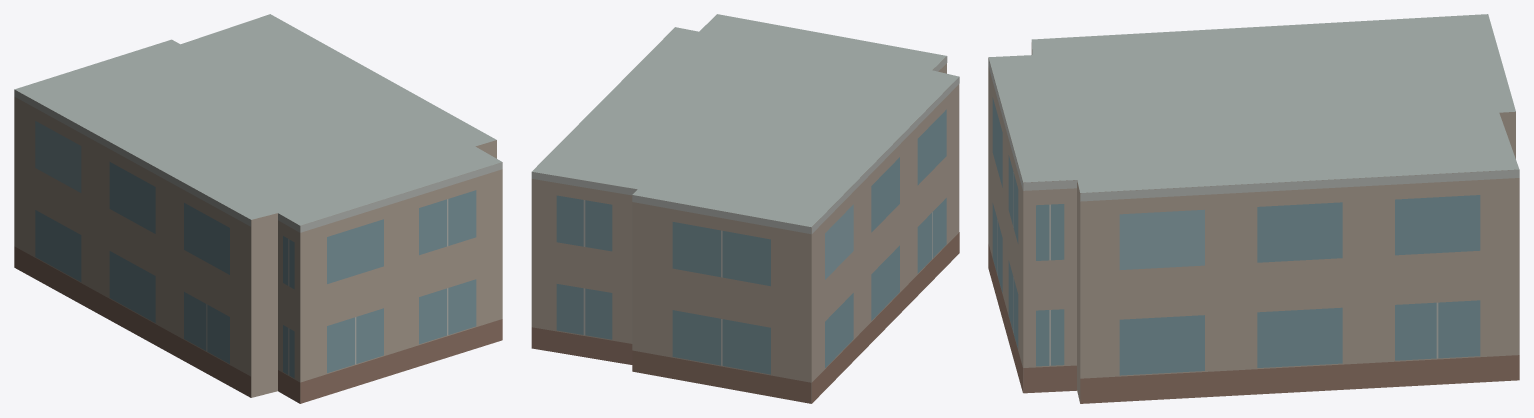
Rendered from survey-upis-32863250.glb.
3 renders of one model, left to right at view 1: azimuth 30°, elevation 25°; view 2: azimuth 150°, elevation 25°; view 3: azimuth 270°, elevation 25°, orthographic. The views are drawn at different scales.
Visible parts, largest first — view 1: survey-upis-32863250.tmp; view 2: survey-upis-32863250.tmp; view 3: survey-upis-32863250.tmp.
Part boxes in pixels (x1,y1,x2,y2): survey-upis-32863250.tmp: [14, 14, 502, 403]; survey-upis-32863250.tmp: [531, 14, 959, 403]; survey-upis-32863250.tmp: [988, 14, 1519, 403].
Size of the model in its own units: 11.13 by 6.1 by 13.94.
